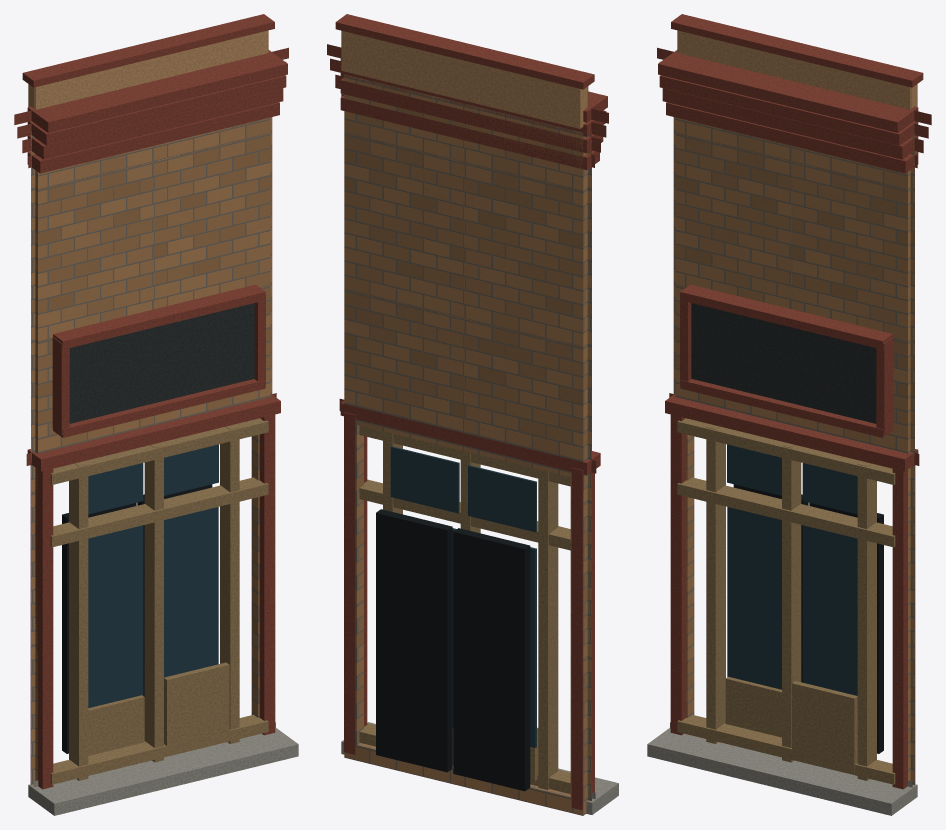
File: BUSS5_lod2.glb
3 renders of one model, left to right at view 1: azimuth 30°, elevation 25°; view 2: azimuth 150°, elevation 25°; view 3: azimuth 330°, elevation 25°, orthographic. The views are drawn at different scales.
Visible parts, largest first — view 1: BUSS5_FRONT_LOD2; view 2: BUSS5_FRONT_LOD2; view 3: BUSS5_FRONT_LOD2.
Part boxes in pixels (x1,y1,x2,y2): BUSS5_FRONT_LOD2: [14, 14, 298, 815]; BUSS5_FRONT_LOD2: [327, 14, 618, 815]; BUSS5_FRONT_LOD2: [647, 14, 931, 815].
Size of the model in its own units: 3.78 by 9.44 by 1.
9 materials, 7 textured.
